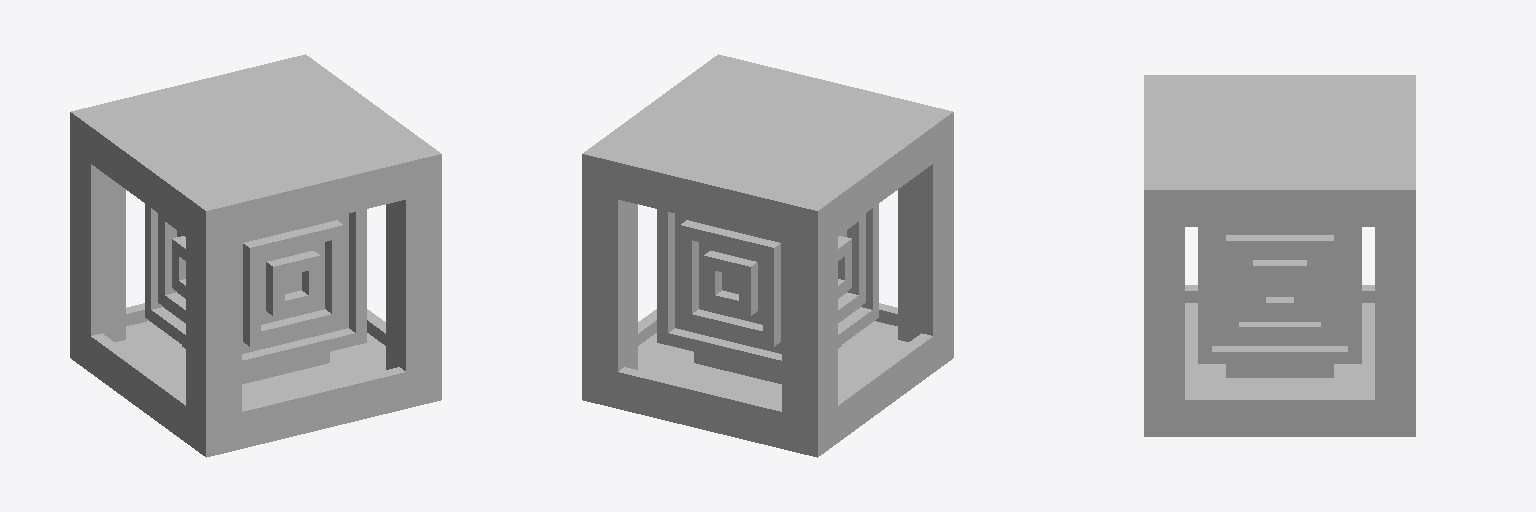
File: CarvedGlowingBlock.obj
3 views of the same model, side by side, from view 1: azimuth 30°, elevation 25°; view 2: azimuth 150°, elevation 25°; view 3: azimuth 270°, elevation 25° (orthographic).
Bounding box in the file's own units: 20 × 20 × 20.